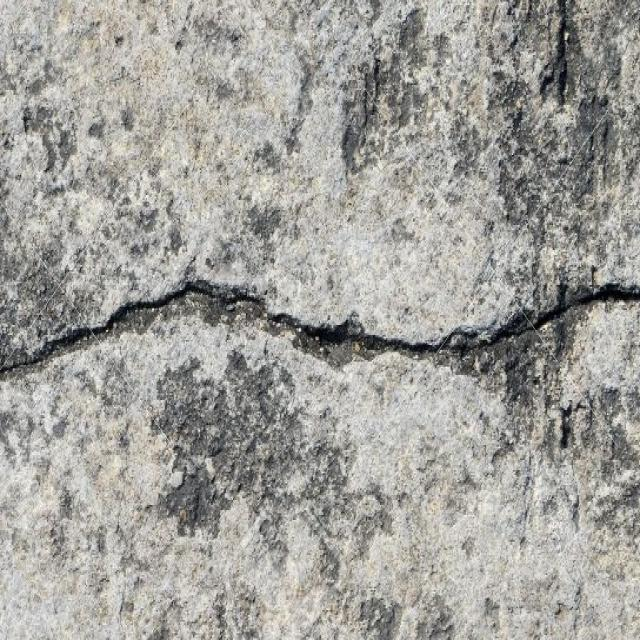Transverse: (8, 268, 640, 401)
